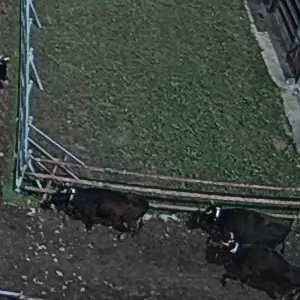cow: (49, 181, 155, 242), (179, 195, 294, 248), (213, 241, 297, 300)
